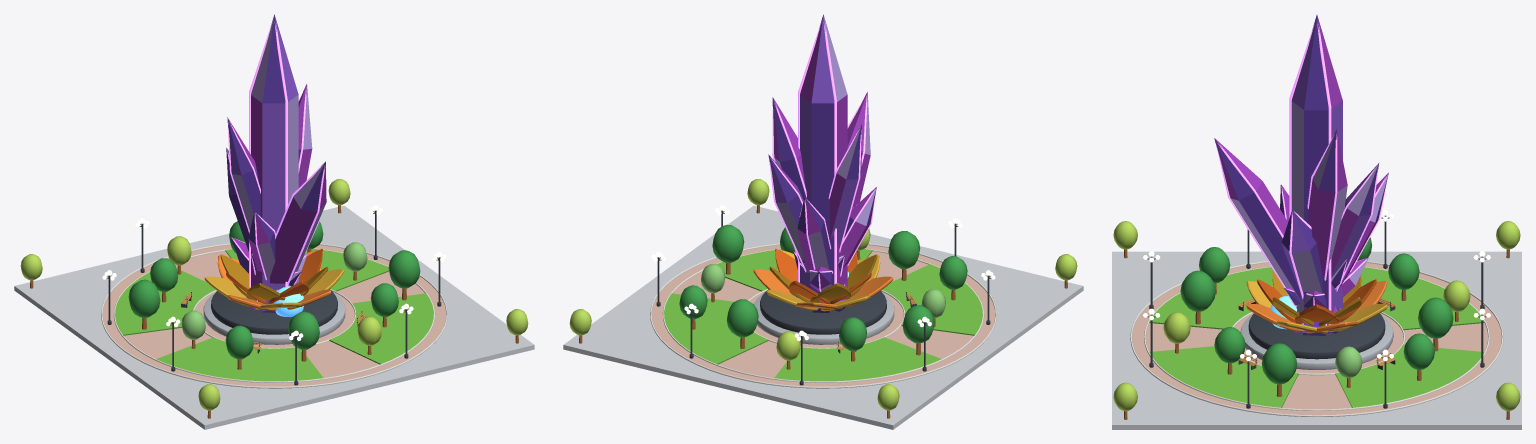
File: praca_cristal.glb
3 renders of one model, left to right at view 1: azimuth 30°, elevation 25°; view 2: azimuth 150°, elevation 25°; view 3: azimuth 270°, elevation 25°, orthographic. The views are drawn at different scales.
Visible parts, largest first — view 1: praca_cristal; view 2: praca_cristal; view 3: praca_cristal.
Part boxes in pixels (x1,y1,x2,y2): praca_cristal: (14, 14, 534, 429); praca_cristal: (563, 14, 1083, 429); praca_cristal: (1112, 15, 1521, 429).
Size of the model in its own units: 30 by 26.6 by 30.
4 materials, 1 textured.
